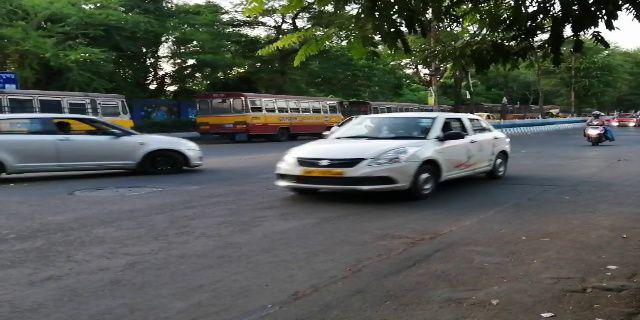Bus: (191, 89, 343, 141), (2, 81, 141, 135)
Car: (274, 107, 513, 199), (1, 111, 202, 183)
Motorbike: (580, 106, 613, 150)
